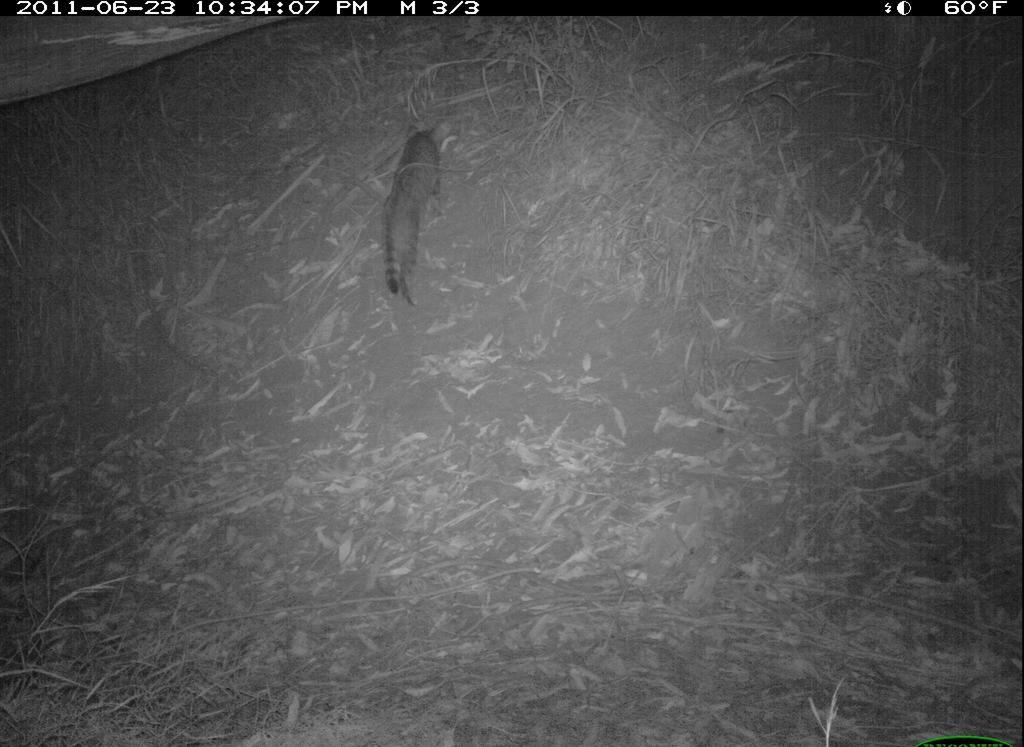cat: (375, 120, 449, 312)
